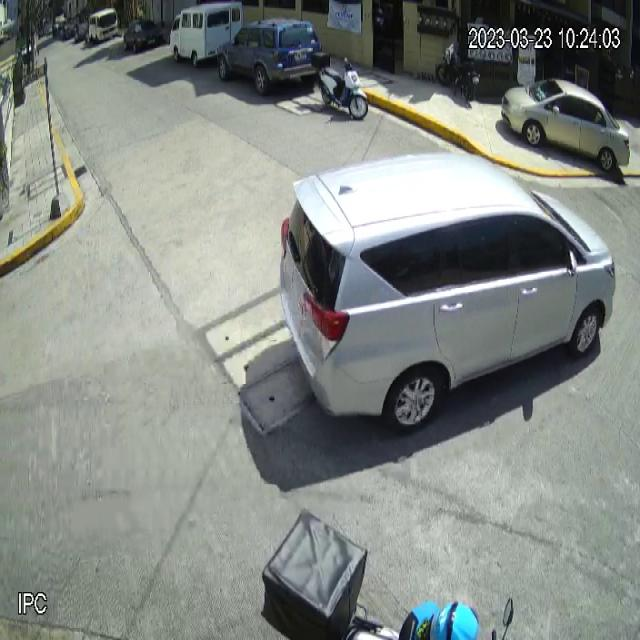Car: (278, 153, 617, 435), (500, 78, 630, 174), (218, 17, 324, 99)
Motorcycle: (312, 48, 369, 120)
Van: (170, 1, 245, 67)
